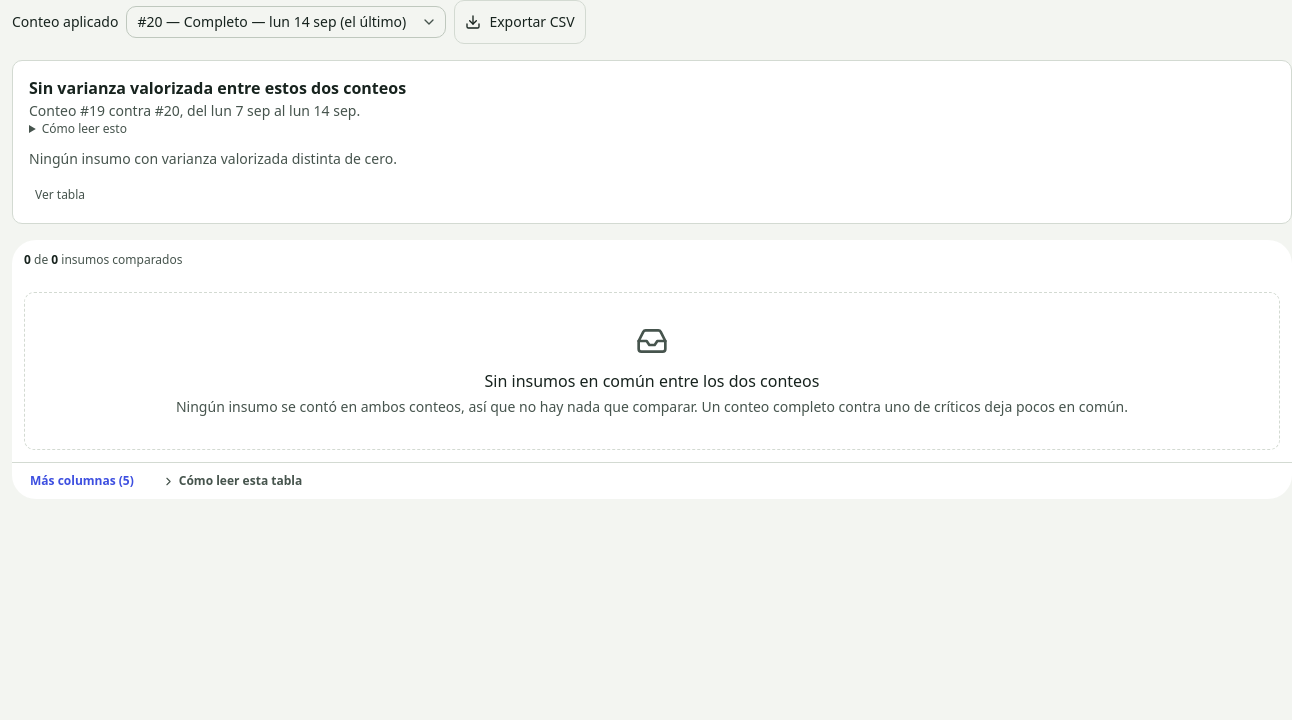
Test: VarianceTab — el semáforo lo calcula el servidor, nunca un umbral del cliente (SPEC-NEGOCIO §5.4) › sólo ofrece conteos APLICADOS en el selector, nunca uno abierto
Click the dropdown named "Conteo aplicado". click: (286, 22)
box: [126, 6, 446, 38]
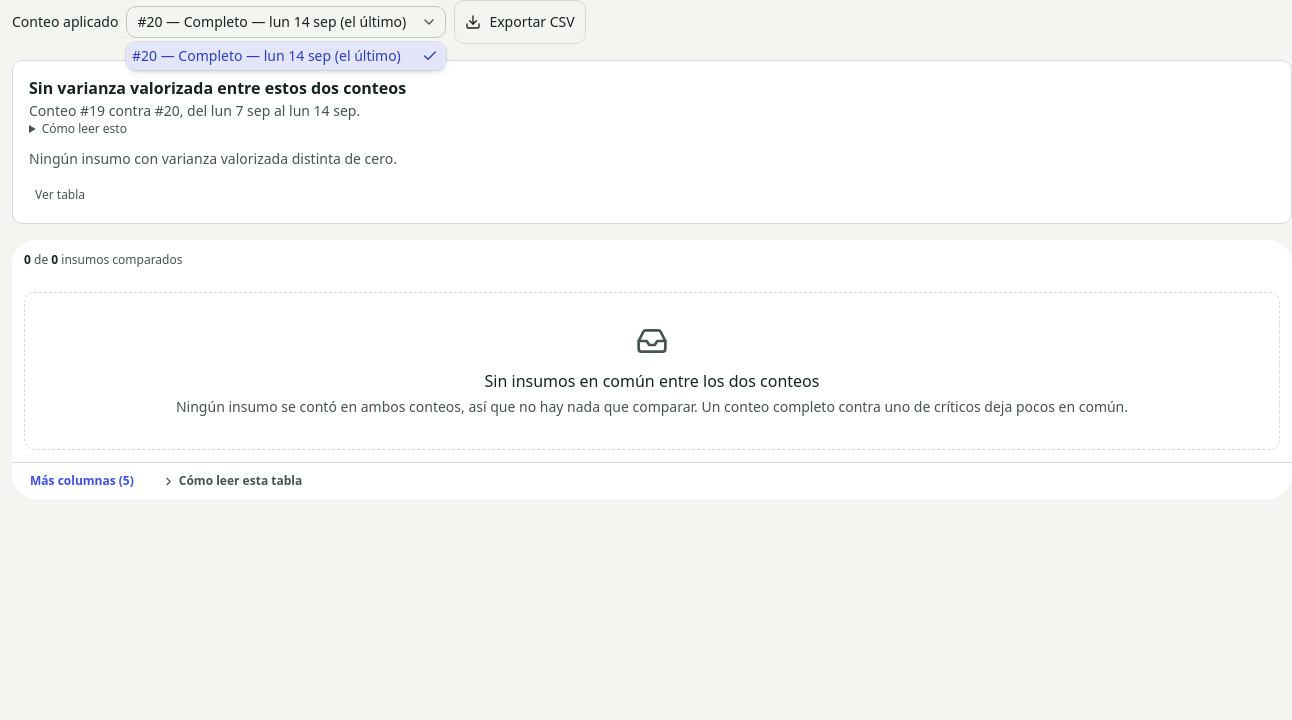
Check: the option "#20 — Completo — lun 14 sep (el último)" is shown, box [126, 42, 446, 70]
